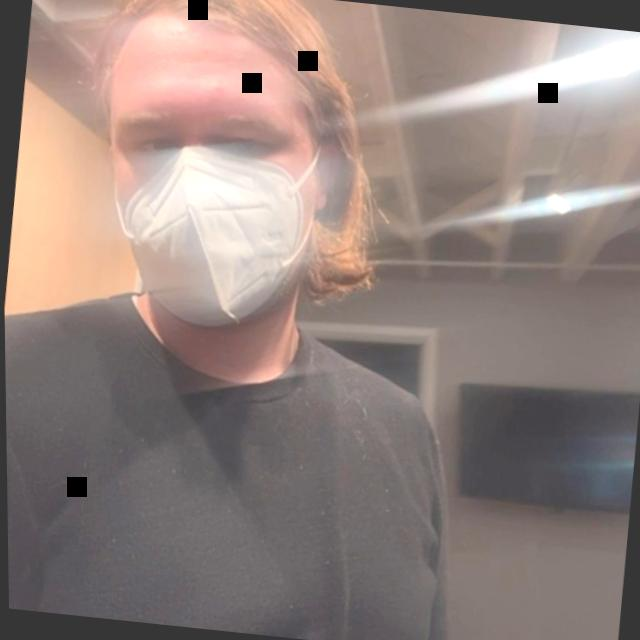Mask: (57, 0, 394, 349)
